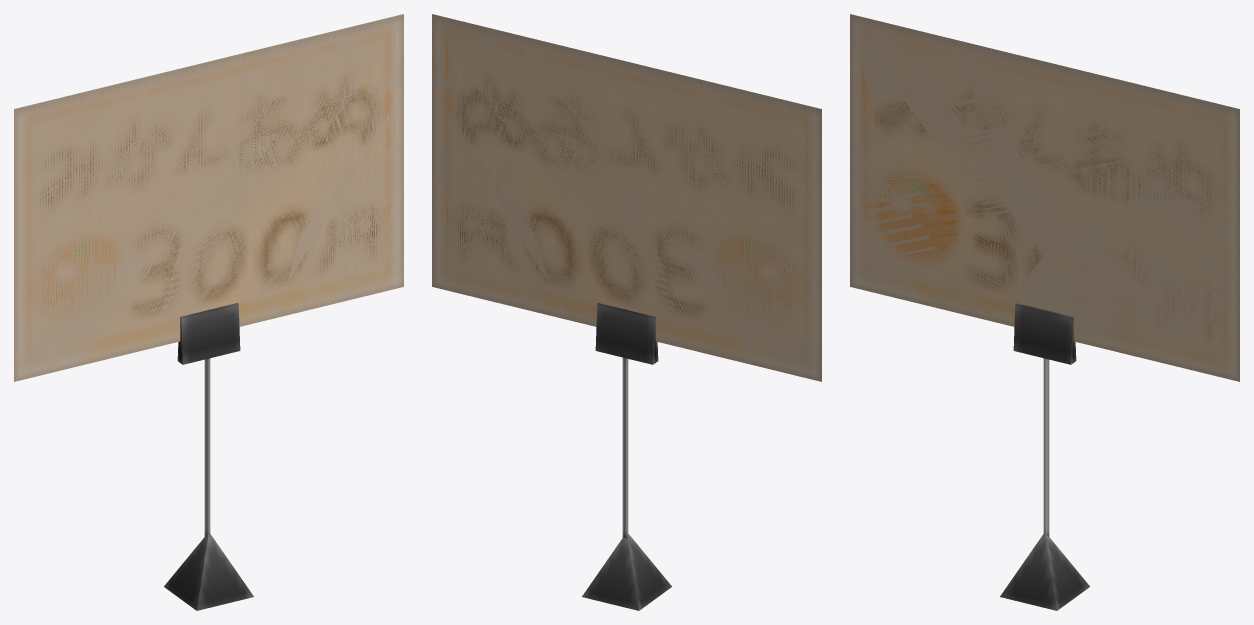
File: jsf_Flyer_AppleCandy_16.fbx
3 renders of one model, left to right at view 1: azimuth 30°, elevation 25°; view 2: azimuth 150°, elevation 25°; view 3: azimuth 330°, elevation 25°, orthographic.
Parts seen in each view (by area): view 1: jsf_Flyer_AppleCandy_16; view 2: jsf_Flyer_AppleCandy_16; view 3: jsf_Flyer_AppleCandy_16.
Boxes of the visible parts, <box> form: jsf_Flyer_AppleCandy_16: <box>14,14,403,610</box>; jsf_Flyer_AppleCandy_16: <box>432,14,821,610</box>; jsf_Flyer_AppleCandy_16: <box>850,14,1239,610</box>.
Size of the model in its own units: 8.82 by 11.47 by 1.3.
